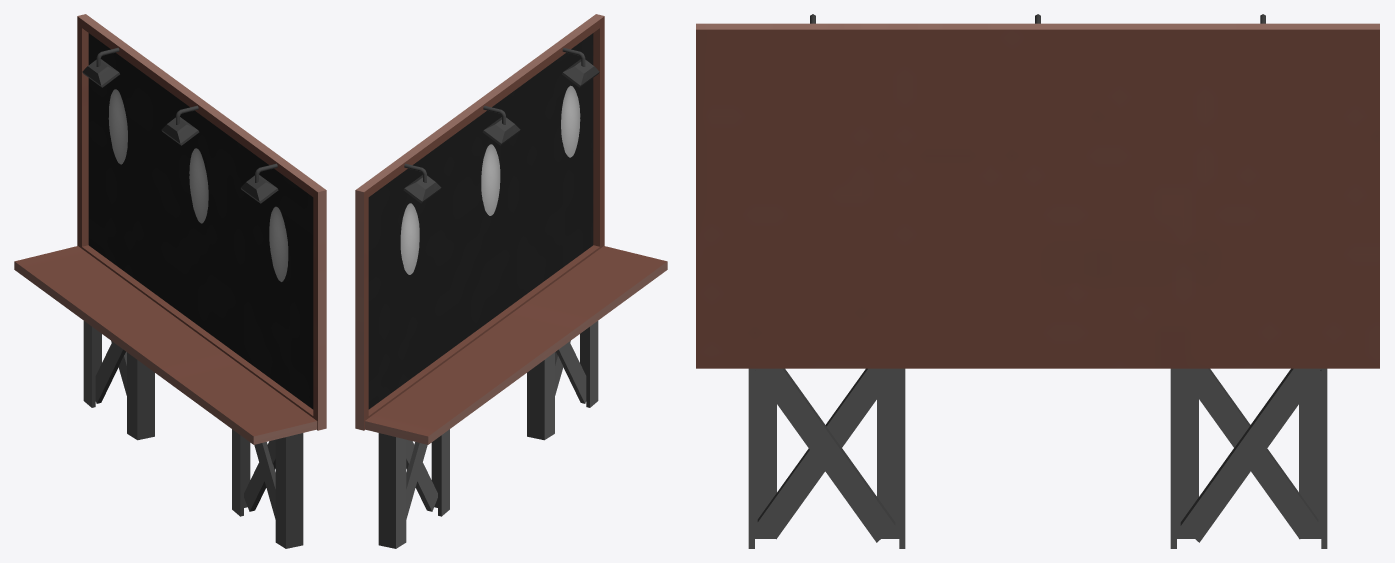
File: Board.FBX
3 renders of one model, left to right at view 1: azimuth 30°, elevation 25°; view 2: azimuth 150°, elevation 25°; view 3: azimuth 270°, elevation 25°, orthographic. The views are drawn at different scales.
Visible parts, largest first — view 1: Board; view 2: Board; view 3: Board.
Part boxes in pixels (x1,y1,x2,y2): Board: [14, 14, 326, 548]; Board: [355, 14, 667, 548]; Board: [696, 14, 1379, 548].
Bounding box in the file's own units: 1.06 × 5.16 × 6.13.
